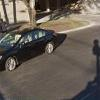Car: (3, 24, 73, 73)
